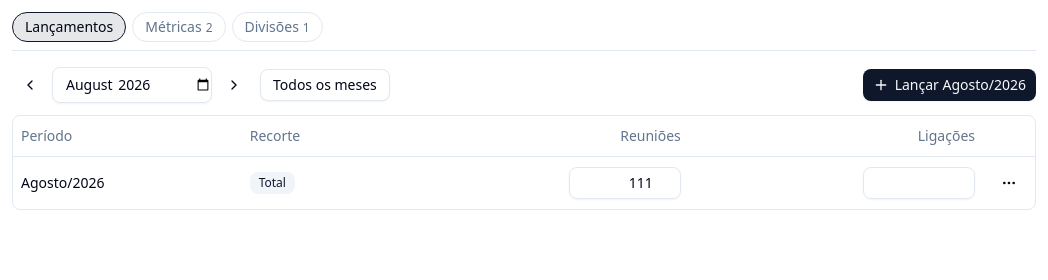
ManualBaseManager v2 › o navegador de mês filtra a grade
Expected: the number field showing "111" is shown, [569,166,681,198]
Expected: the field showing "222" is not shown
Click the button named "Próximo mês".
click(234, 85)  # box [216,67,252,103]
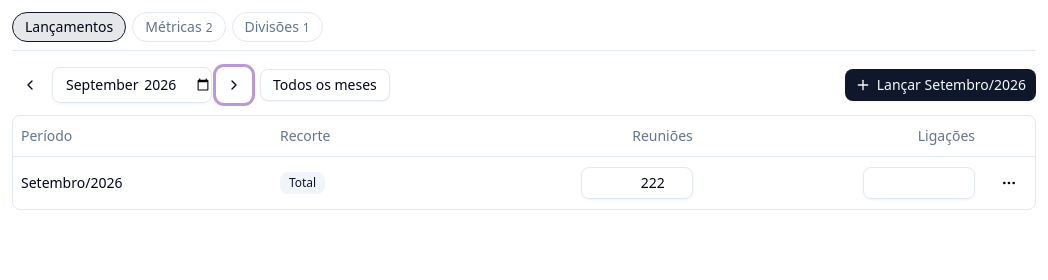
Expected: the field showing "111" is not shown
Now the number field showing "222" is shown, box [581,166,693,198]
Click the button "Todos os meses".
click(325, 85)  # box [260,69,390,101]
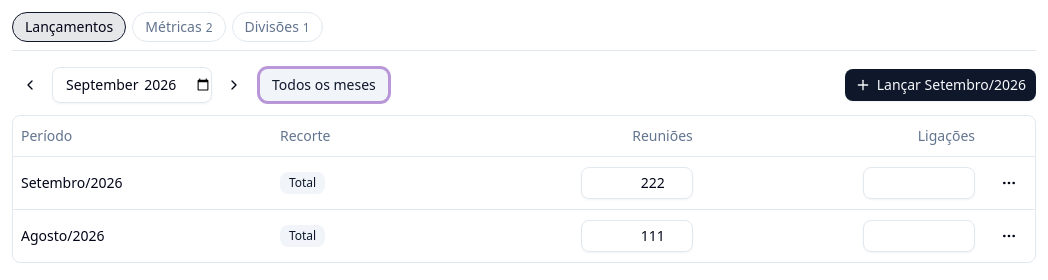
Now the number field showing "222" is shown, box [581,166,693,198]
Now the number field showing "111" is shown, box [581,220,693,252]
